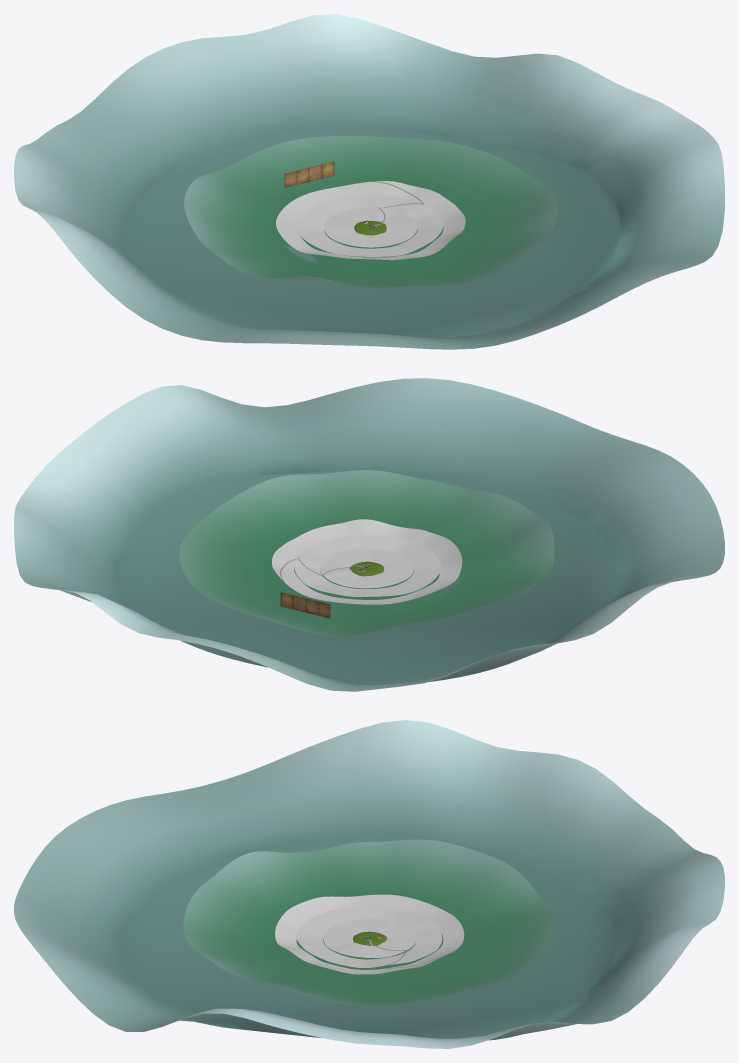
Rendered from HomeParty.FBX.
3 renders of one model, top to bottom at view 1: azimuth 30°, elevation 25°; view 2: azimuth 150°, elevation 25°; view 3: azimuth 270°, elevation 25°, orthographic.
Visible parts, largest first — view 1: background05, background04, background03, background02, background01, TreeAlpha; view 2: background05, background04, background03, background02, background01, TreeAlpha; view 3: background05, background04, background03, background02, background01.
Part boxes in pixels (<box>): background05: <box>14,14,724,349</box>; background04: <box>184,136,557,287</box>; background03: <box>276,181,465,260</box>; background02: <box>297,195,443,256</box>; background01: <box>323,207,417,247</box>; TreeAlpha: <box>284,161,334,187</box>; background05: <box>14,378,724,691</box>; background04: <box>179,470,554,636</box>; background03: <box>272,519,462,604</box>; background02: <box>294,535,441,596</box>; background01: <box>320,548,413,588</box>; TreeAlpha: <box>280,592,330,618</box>; background05: <box>14,720,724,1048</box>; background04: <box>183,839,555,1006</box>; background03: <box>275,894,464,974</box>; background02: <box>295,906,442,967</box>; background01: <box>323,919,416,957</box>.
Size of the model in its own units: 38699 by 4721 by 38948.
